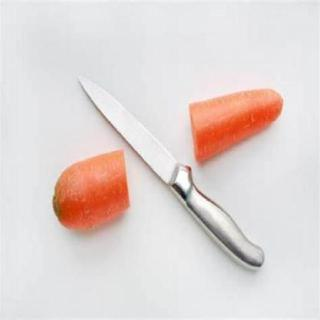carrot: (188, 87, 286, 166), (48, 147, 134, 235)
